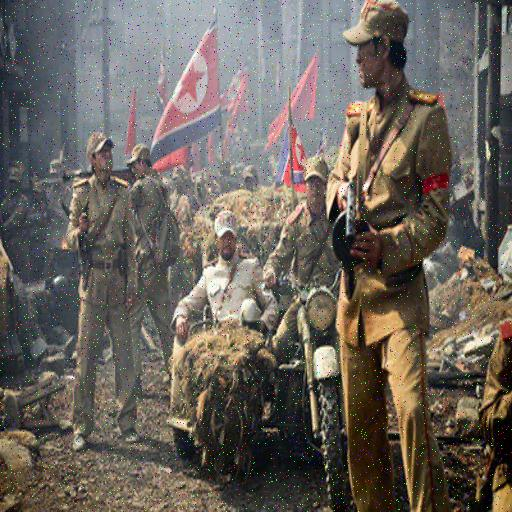north army: (308, 4, 460, 512), (59, 119, 160, 443)
